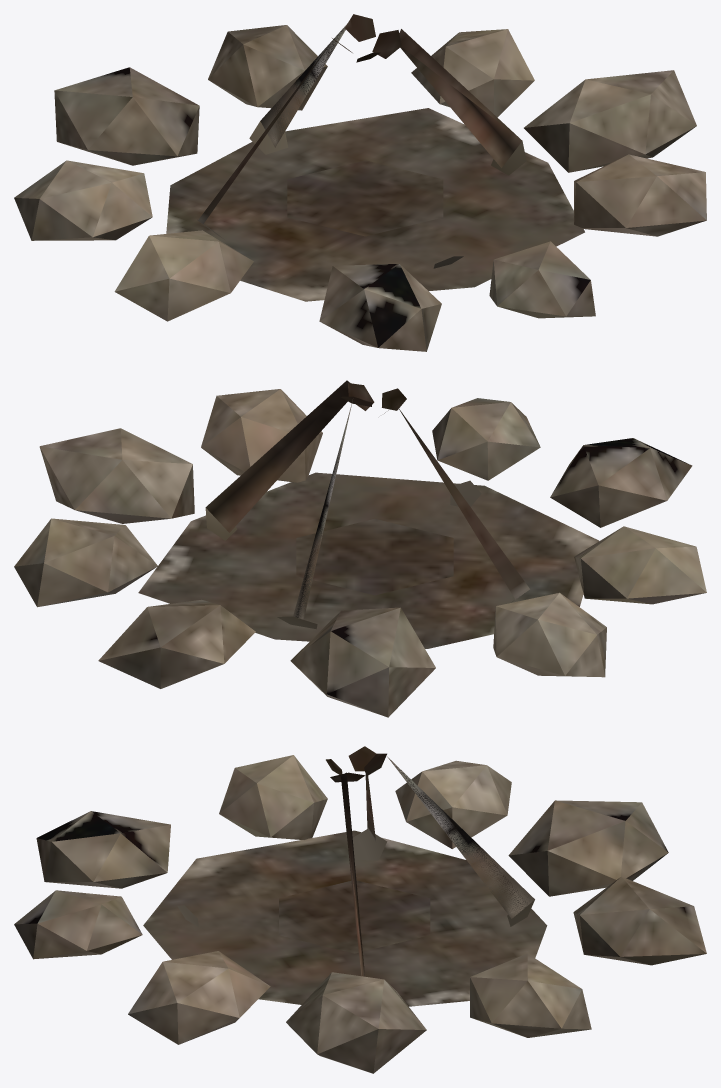
File: b_fire_xfar.glb
The picture shows the model from 3 angles, top to bottom: view 1: azimuth 30°, elevation 25°; view 2: azimuth 150°, elevation 25°; view 3: azimuth 270°, elevation 25°; orthographic projection. The views are drawn at different scales.
Parts seen in each view (by area): view 1: b_fire_xfar; view 2: b_fire_xfar; view 3: b_fire_xfar.
Part boxes in pixels (x1,y1,x2,y2): b_fire_xfar: [14, 14, 706, 351]; b_fire_xfar: [14, 380, 706, 717]; b_fire_xfar: [14, 746, 706, 1073].
Size of the model in its own units: 1.57 by 0.4481 by 1.59.
Materials: 1 (1 with a texture image).
